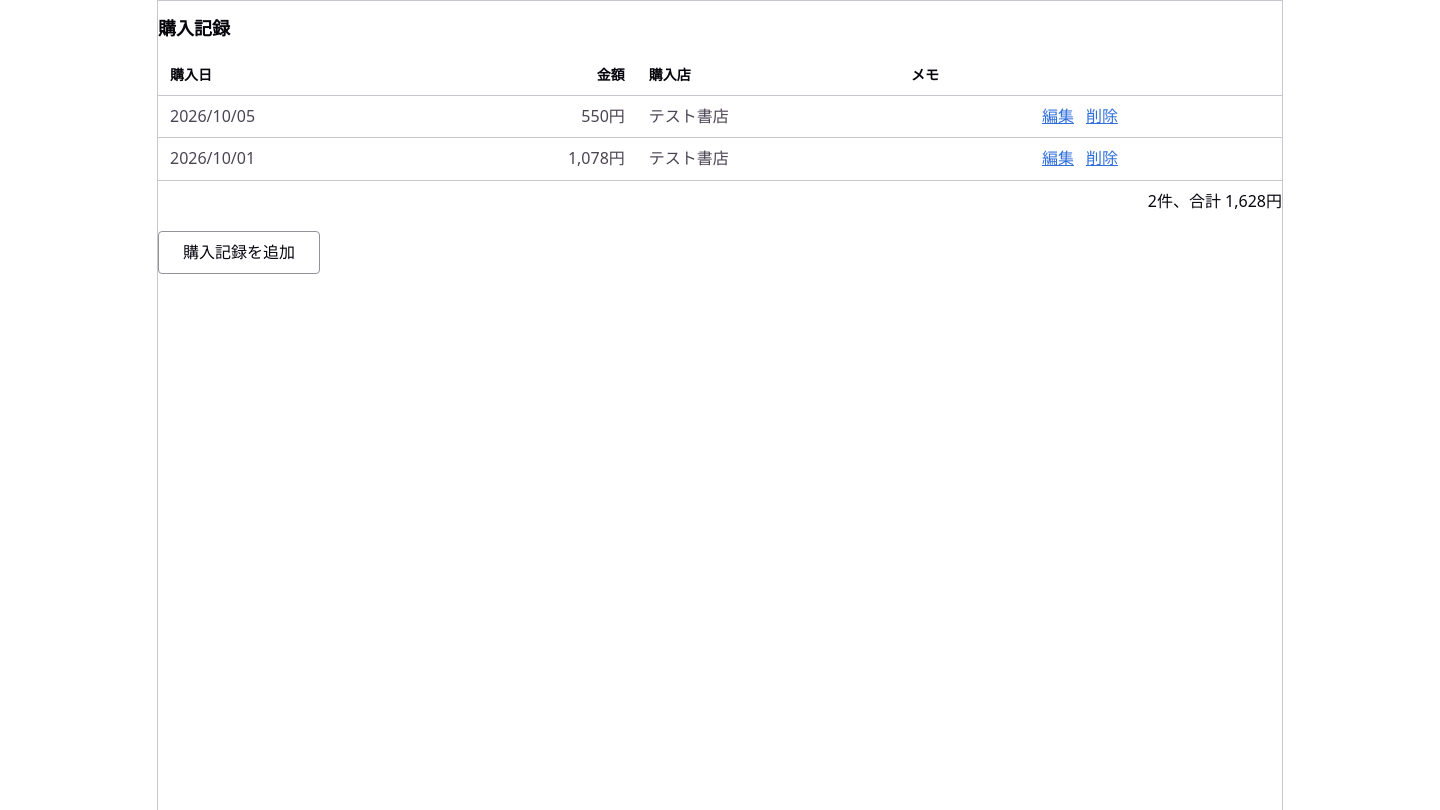
Test: PurchasesSection › 削除 › 行の「削除」で確認を出し、「削除する」で削除して取り直す
This screenshot has width=1440, height=810.
Click the button with aria-label "2026/10/01 の購入記録を削除" at (1102, 159), box [1086,146,1118,172]
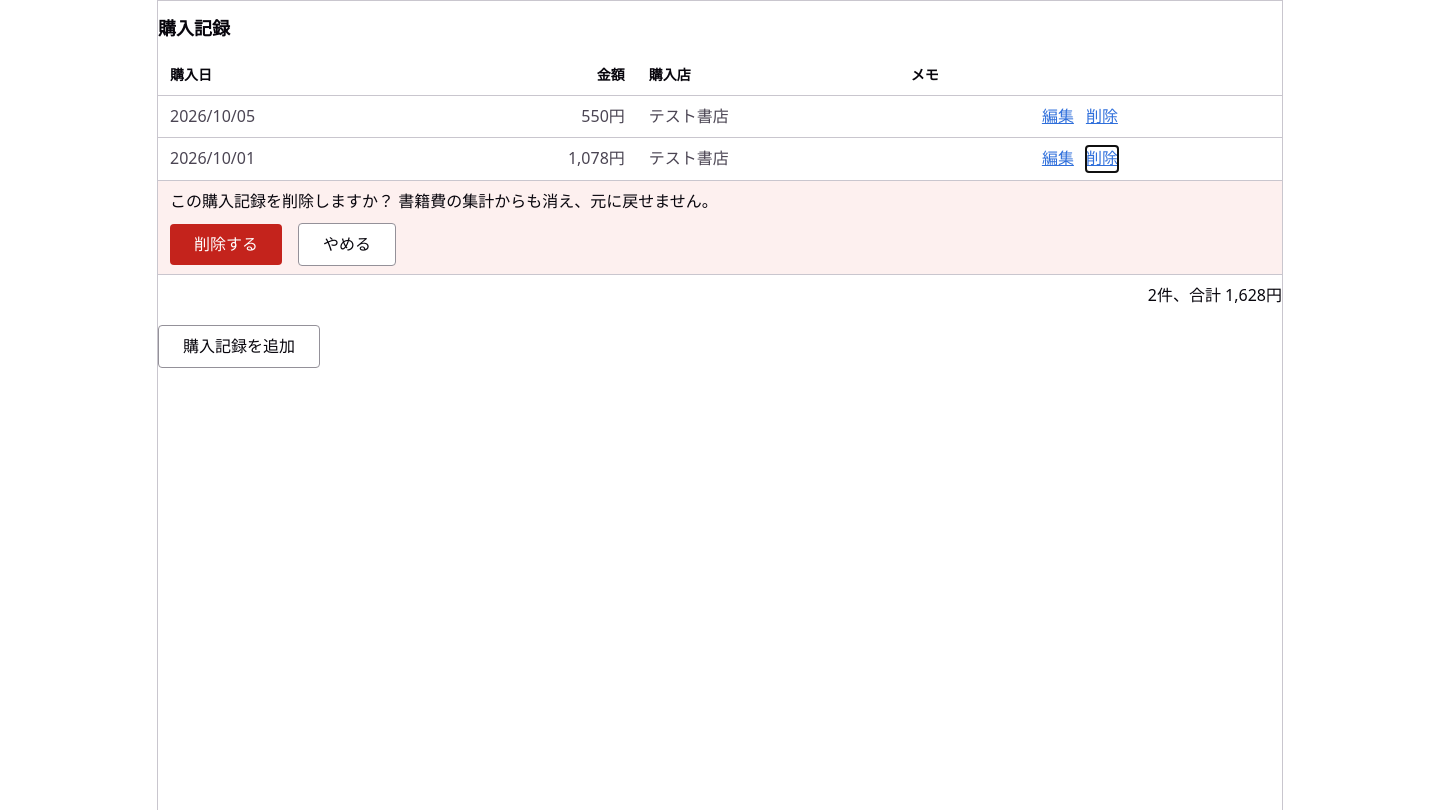
Now the text "この購入記録を削除しますか？ 書籍費の集計からも消え、元に戻せません。" is shown, box [170,190,718,212]
Click the button "削除する" at (226, 244), box [170,224,282,265]
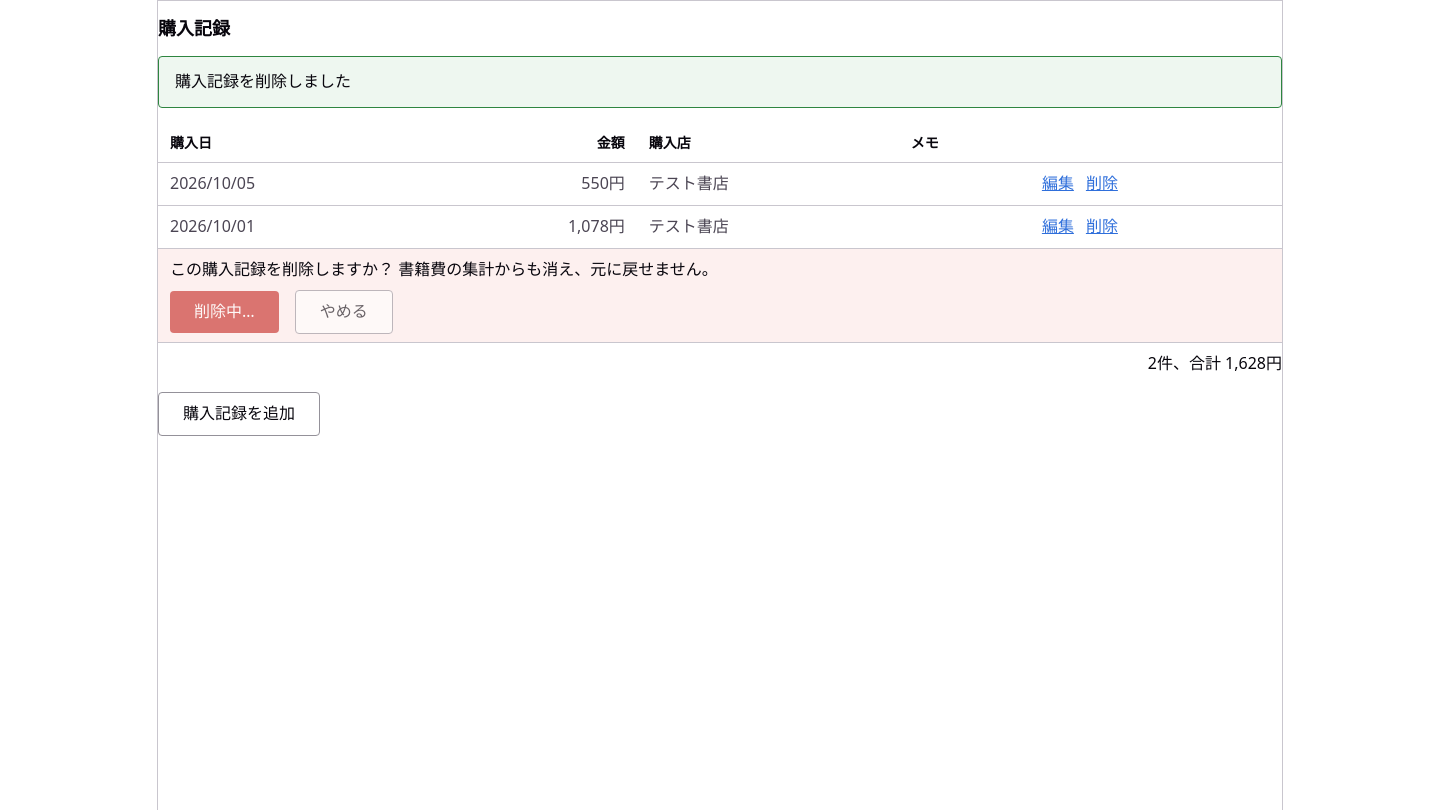
Now the message reads "購入記録を削除しました", box [175,70,351,92]
